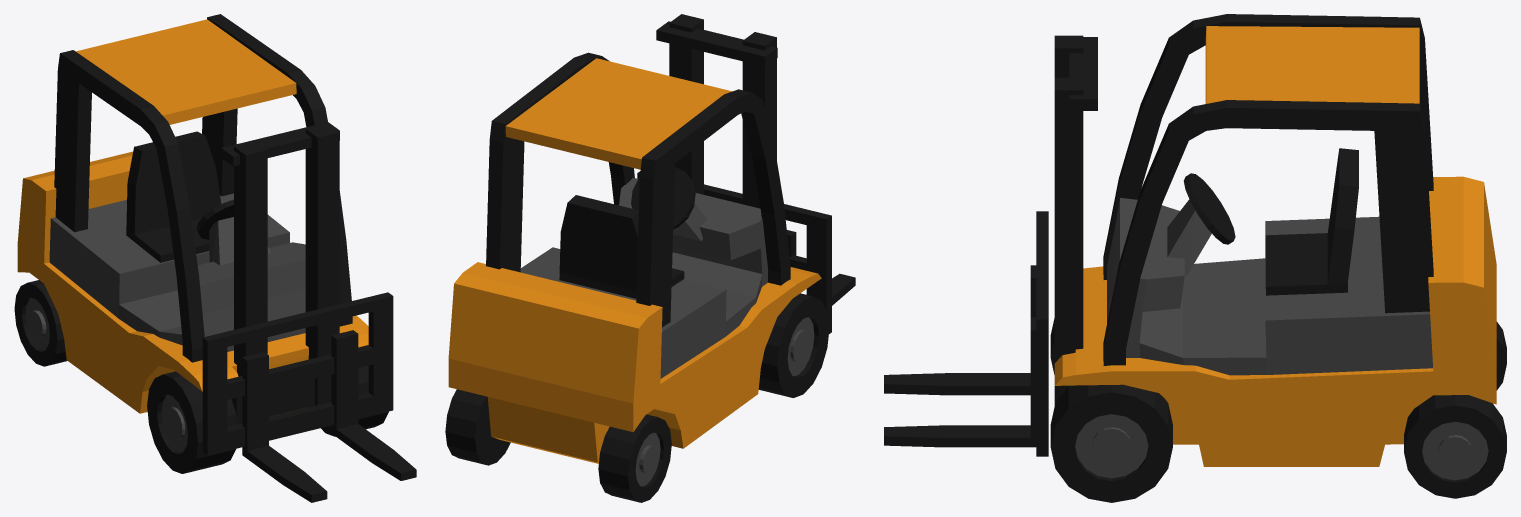
Rendered from Forklift.fbx.
3 views of the same model, side by side, from view 1: azimuth 30°, elevation 25°; view 2: azimuth 150°, elevation 25°; view 3: azimuth 270°, elevation 25° (orthographic). The views are drawn at different scales.
Parts seen in each view (by area): view 1: Forkloft, Forks, Carriage, FrontRWheel, BackRWheel, FrontLWheel; view 2: Forkloft, Carriage, FrontRWheel, BackRWheel, Forks, BackLWheel; view 3: Forkloft, FrontLWheel, Carriage, Forks, BackLWheel.
Boxes of the visible parts, x1,y1,x2,y2 form: Forkloft: (17,14,368,413); Forks: (202,292,416,502); Carriage: (221,122,339,424); FrontRWheel: (147,371,236,473); BackRWheel: (14,280,67,366); FrontLWheel: (321,365,388,436); Forkloft: (448,52,821,463); Carriage: (656,14,777,208); FrontRWheel: (758,293,829,397); BackRWheel: (598,414,671,502); Forks: (637,171,855,333); BackLWheel: (445,389,510,465); Forkloft: (1054,14,1496,466); FrontLWheel: (1050,384,1172,502); Carriage: (1054,35,1097,405); Forks: (884,211,1048,456); BackLWheel: (1404,395,1506,498).
Bounding box in the file's own units: 213 × 340 × 498.
